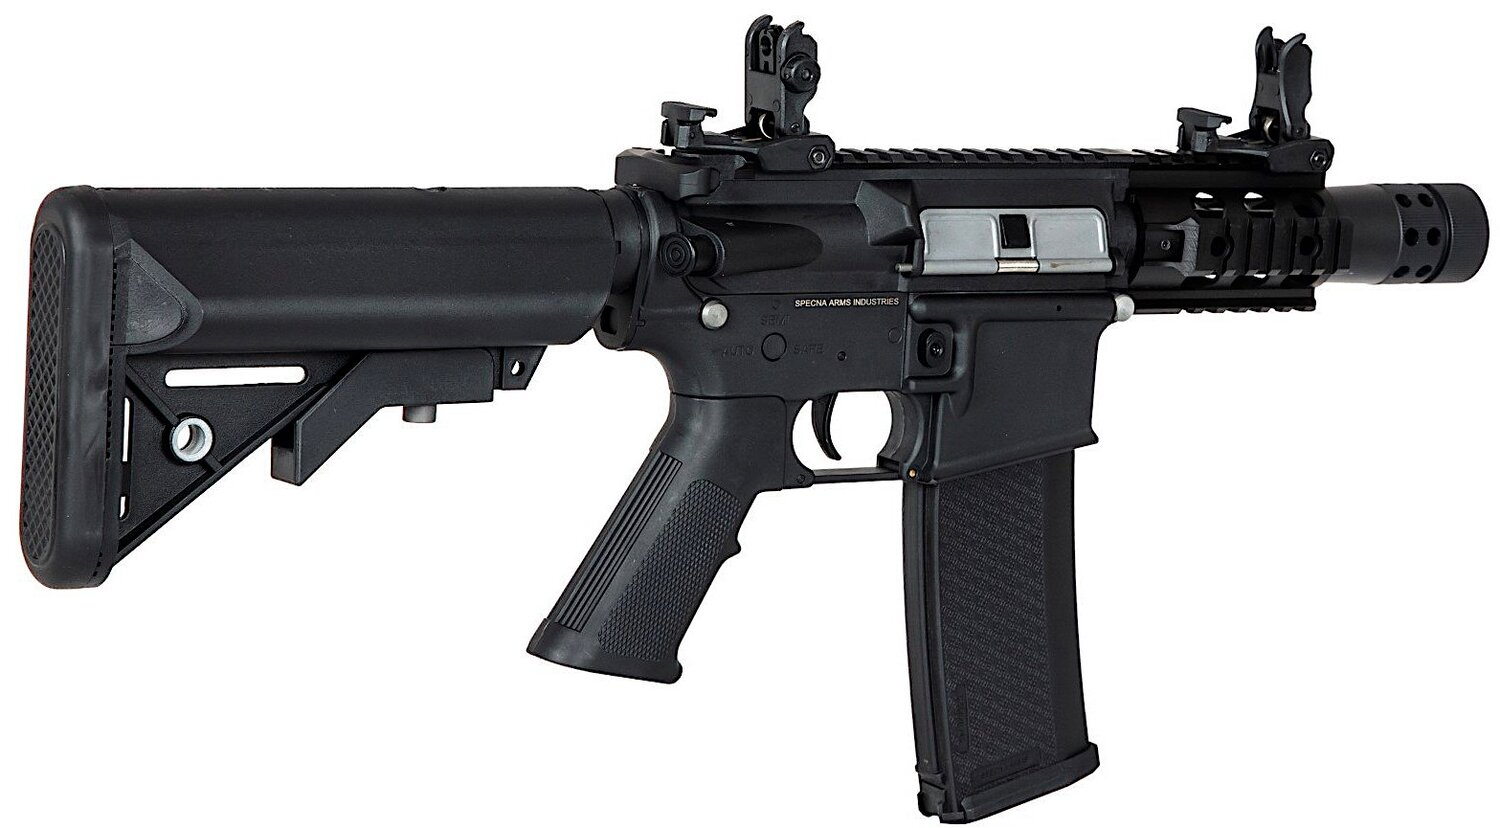m4_carbine: (540, 111, 1128, 828)
